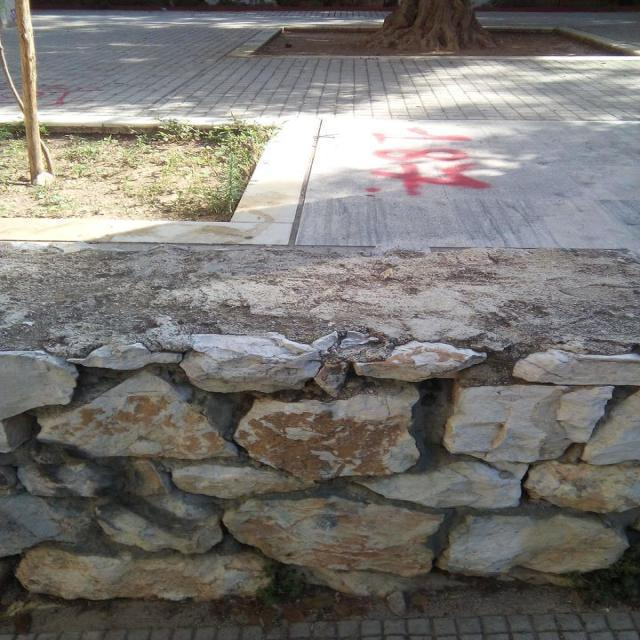nonspitting: (364, 126, 494, 196)
